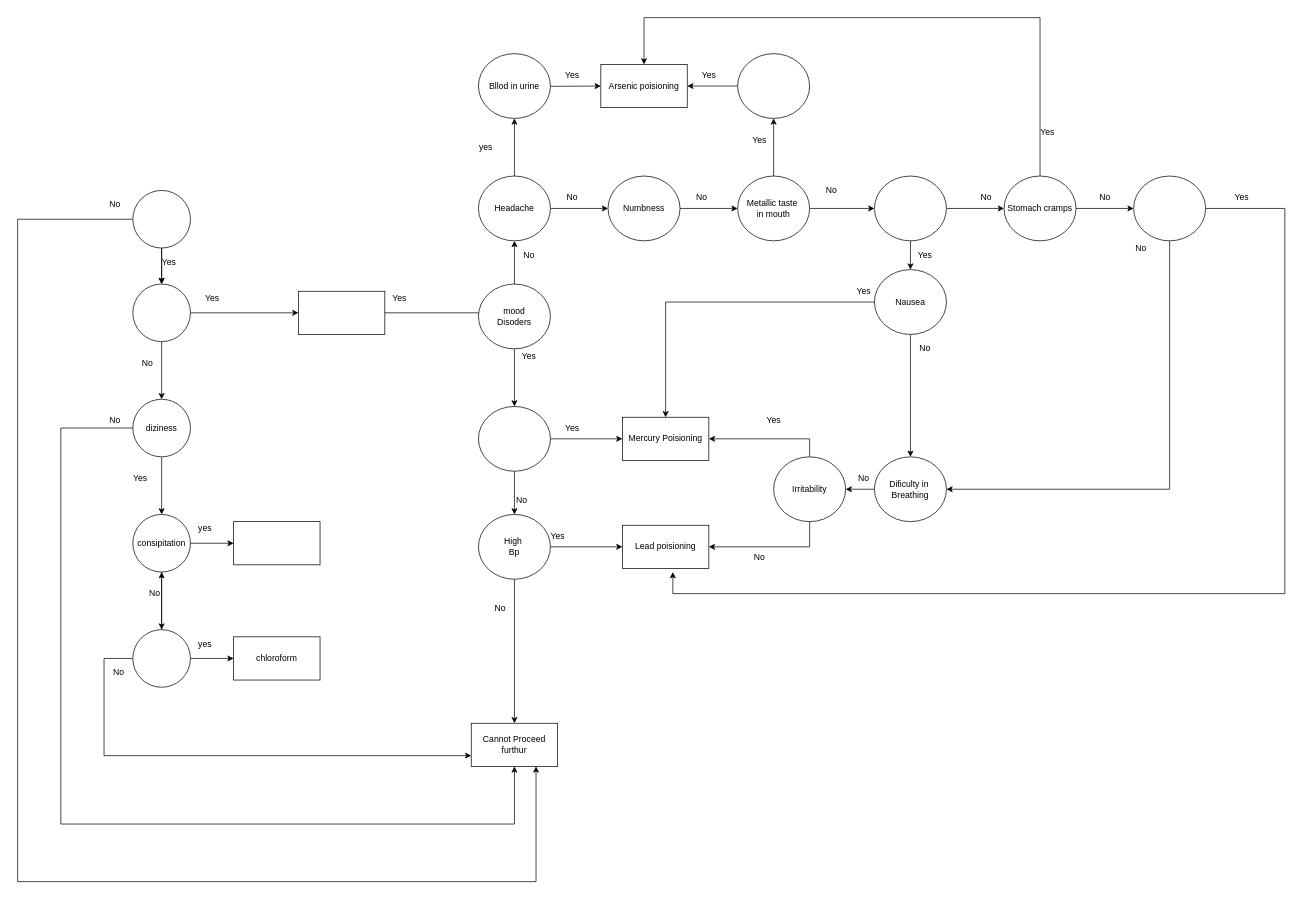
This 1303x900 diagram has some shape labels left out. Here are the shapes that lost their labels. From the top down, the centre of each, then its label:
the point at 773,85: Diarrhea
the point at 161,219: Are you feeling sick
the point at 910,208: Memory problems
the point at 1169,208: Loss of Appetite
the point at 161,312: vomiting
the point at 341,312: posiibility of poissioning
the point at 514,438: Depression
the point at 276,543: vinyl chloride poisioning
the point at 161,658: stinging sensation
